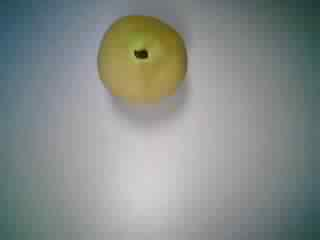pear: (77, 11, 196, 117)
